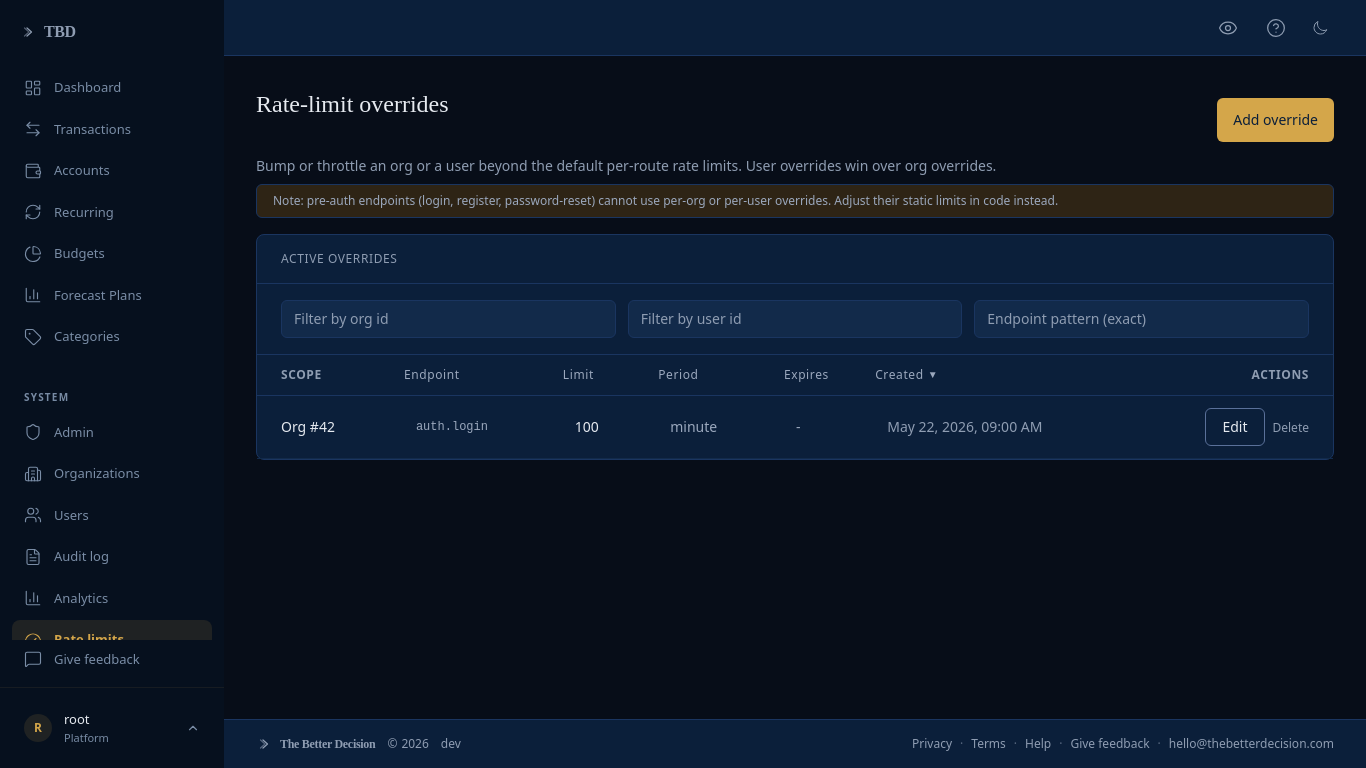
AdminRateLimitOverridesPage › validates that an endpoint pattern is selected before submit
The image size is (1366, 768).
Expected: the text "auth.login" is shown, [392, 396, 551, 458]
Click the button "Add override" at (1276, 120), box [1217, 98, 1334, 142]
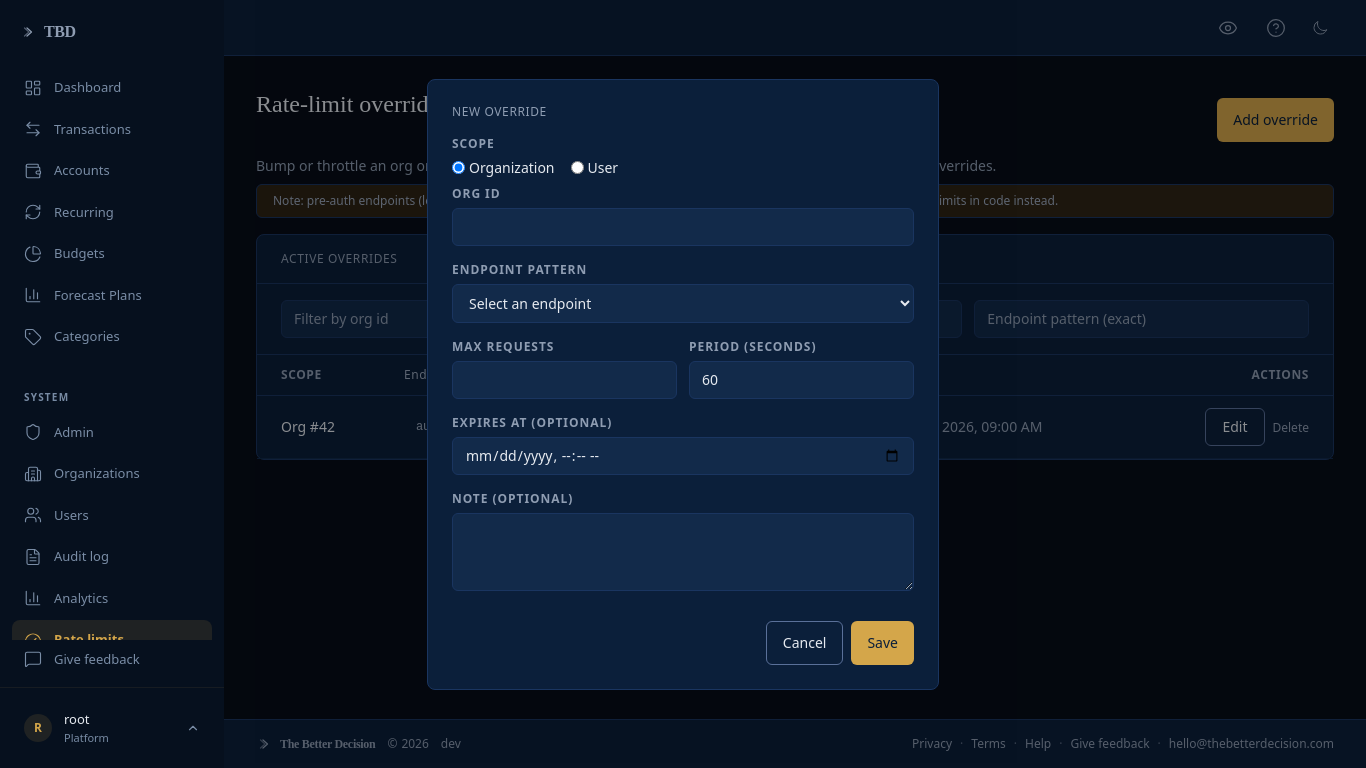
Expected: the heading "New override" is shown, [452, 102, 547, 120]
Expected: the form "New override" is shown, [427, 78, 939, 690]
Type "1" into the field labelled "Org id" at (683, 226), box [452, 208, 914, 246]
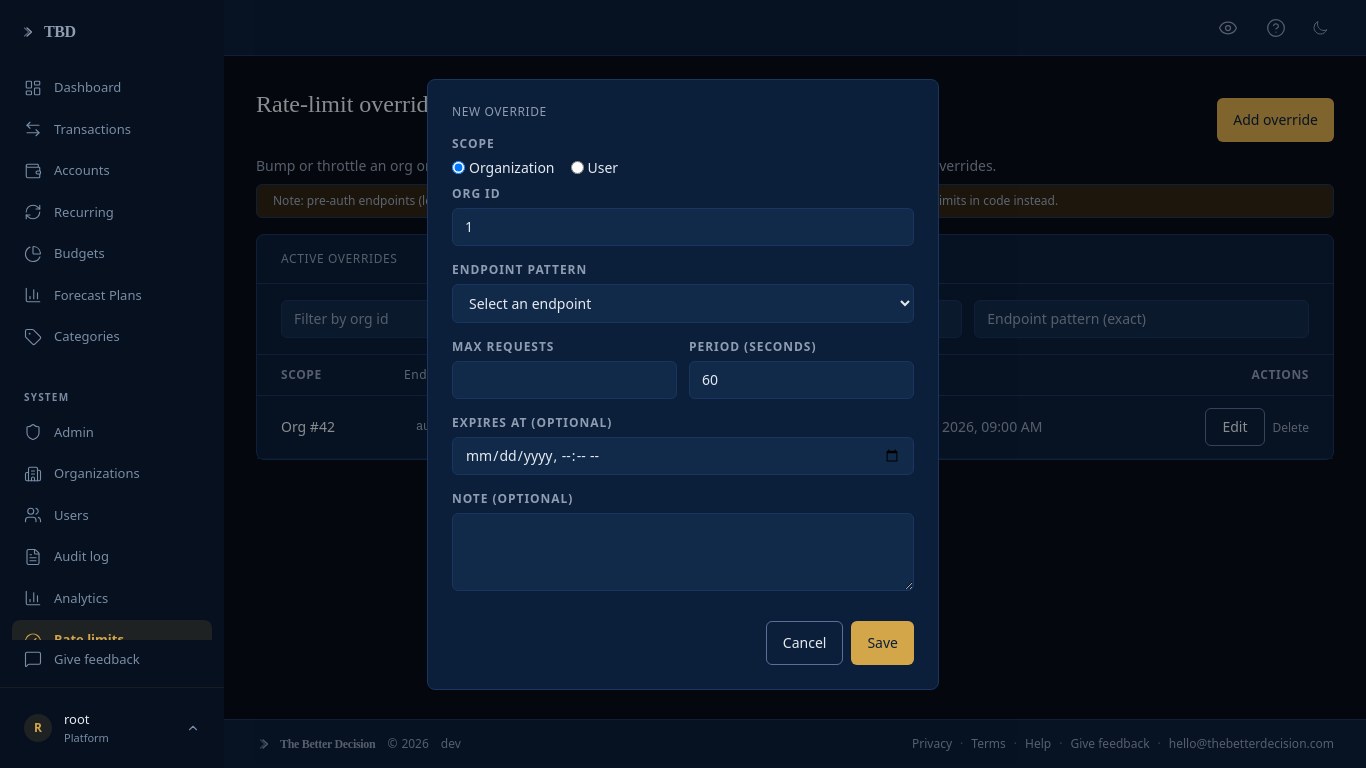
Type "10" into the field labelled "Max requests" at (564, 380), box [452, 360, 677, 398]
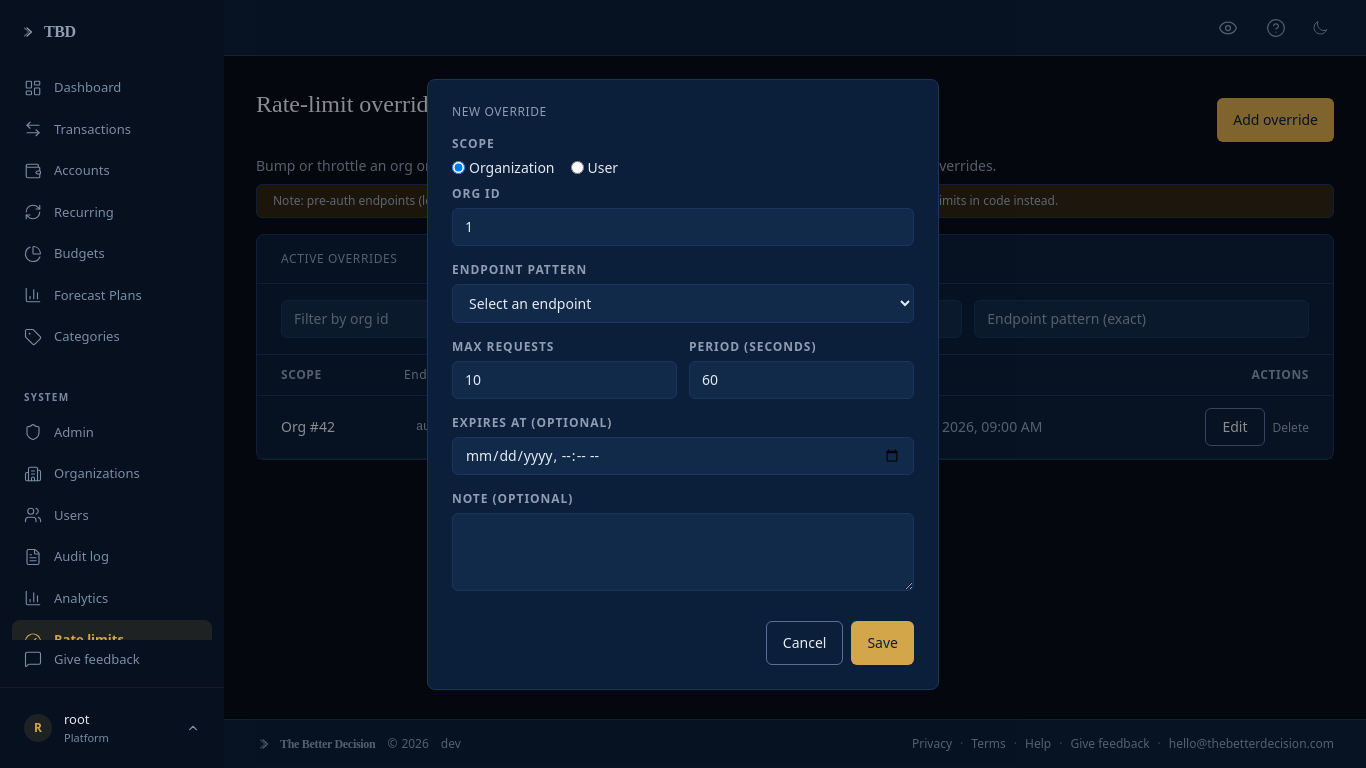
Click the button "Save" at (883, 642), box [851, 620, 914, 664]
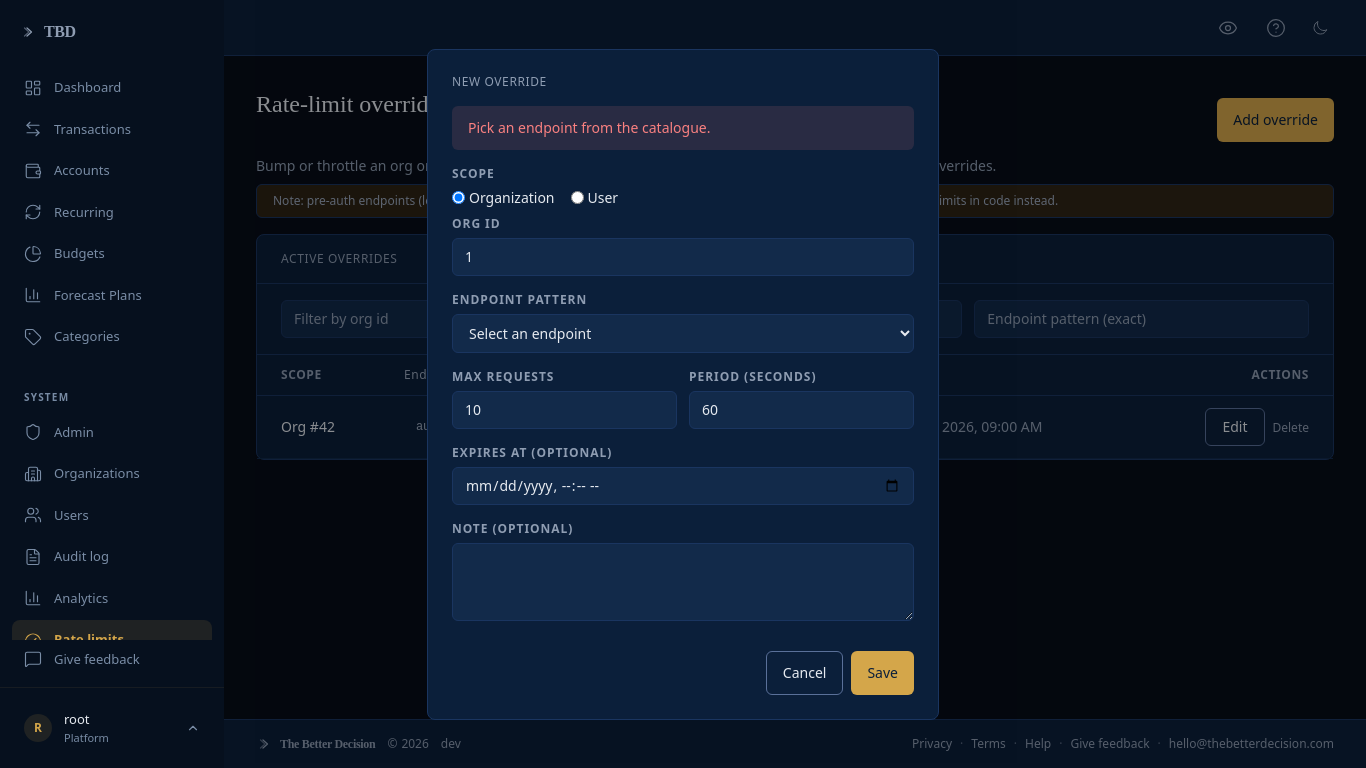
Expected: the text "Pick an endpoint from the catalogue." is shown, [452, 106, 914, 150]
